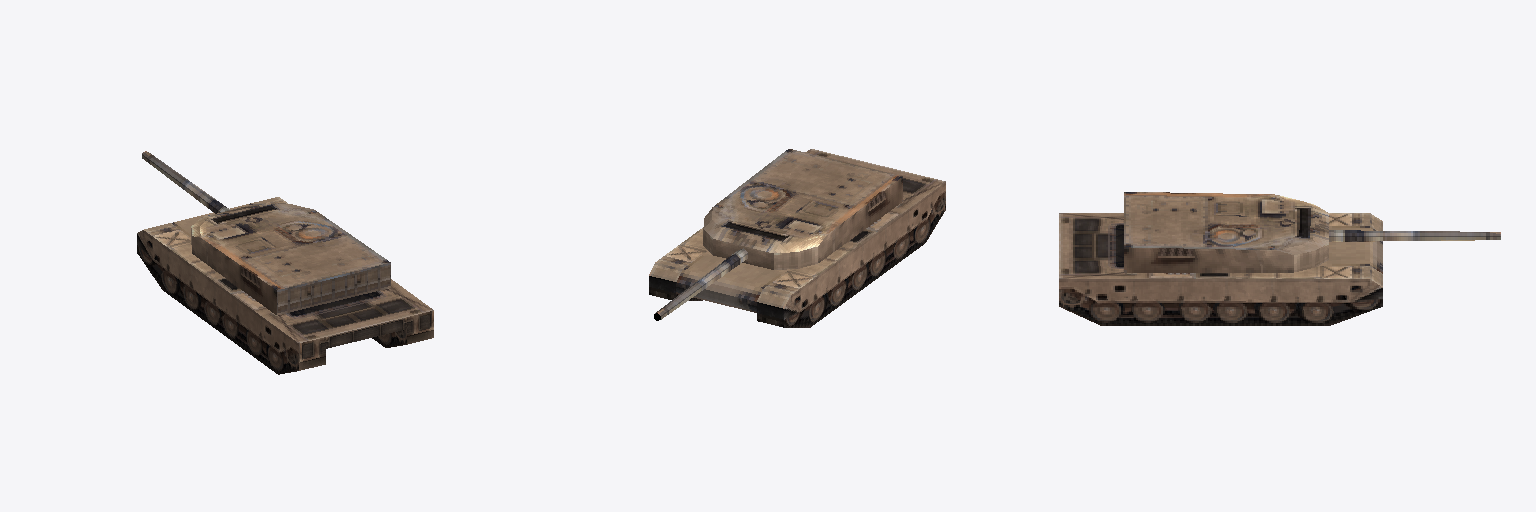
3 views of the same model, side by side, from view 1: azimuth 30°, elevation 25°; view 2: azimuth 150°, elevation 25°; view 3: azimuth 270°, elevation 25° (orthographic).
Visible parts, largest first — view 1: Cube; view 2: Cube; view 3: Cube.
Boxes of the visible parts, <box> form: Cube: <box>137,151,433,374</box>; Cube: <box>649,149,945,327</box>; Cube: <box>1059,192,1500,325</box>.
Size of the model in its own units: 0.8608 by 0.443 by 2.43.
1 materials, 1 textured.